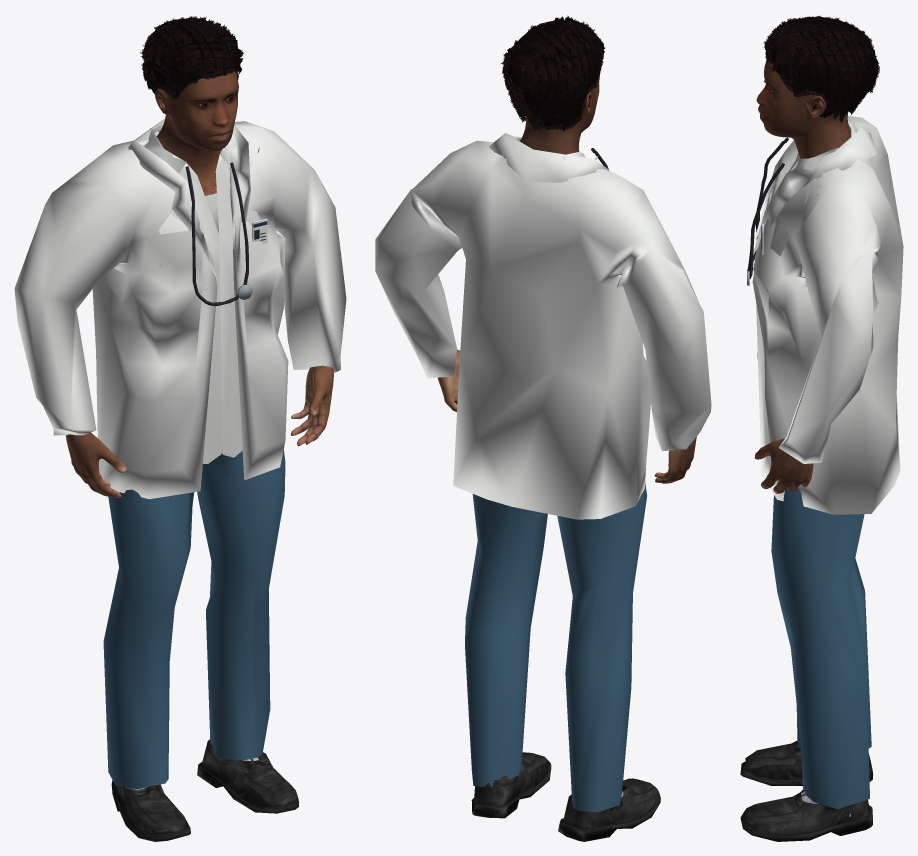
File: dentist.glb
3 views of the same model, side by side, from view 1: azimuth 30°, elevation 25°; view 2: azimuth 150°, elevation 25°; view 3: azimuth 270°, elevation 25° (orthographic).
Visible parts, largest first — view 1: male_casualsuit05, Jordan | anatomical body, shoes04, afro01, Stethoscope tubing; view 2: male_casualsuit05, afro01, shoes04, Jordan | anatomical body; view 3: male_casualsuit05, afro01, shoes04, Jordan | anatomical body, Stethoscope tubing.
Part boxes in pixels (x1,y1,x2,y2): male_casualsuit05: [14, 118, 346, 788]; Jordan | anatomical body: [66, 71, 333, 760]; shoes04: [111, 739, 298, 841]; afro01: [140, 16, 243, 98]; Stethoscope tubing: [185, 162, 248, 305]; male_casualsuit05: [375, 133, 711, 812]; afro01: [501, 15, 605, 132]; shoes04: [471, 752, 660, 841]; Jordan | anatomical body: [437, 74, 696, 483]; male_casualsuit05: [752, 115, 903, 809]; afro01: [763, 15, 879, 122]; shoes04: [740, 741, 873, 841]; Jordan | anatomical body: [754, 60, 851, 796]; Stethoscope tubing: [747, 137, 788, 278].
Bounding box in the file's own units: 0.7857 × 1.85 × 0.3491.
Materials: 14 (13 with a texture image).
